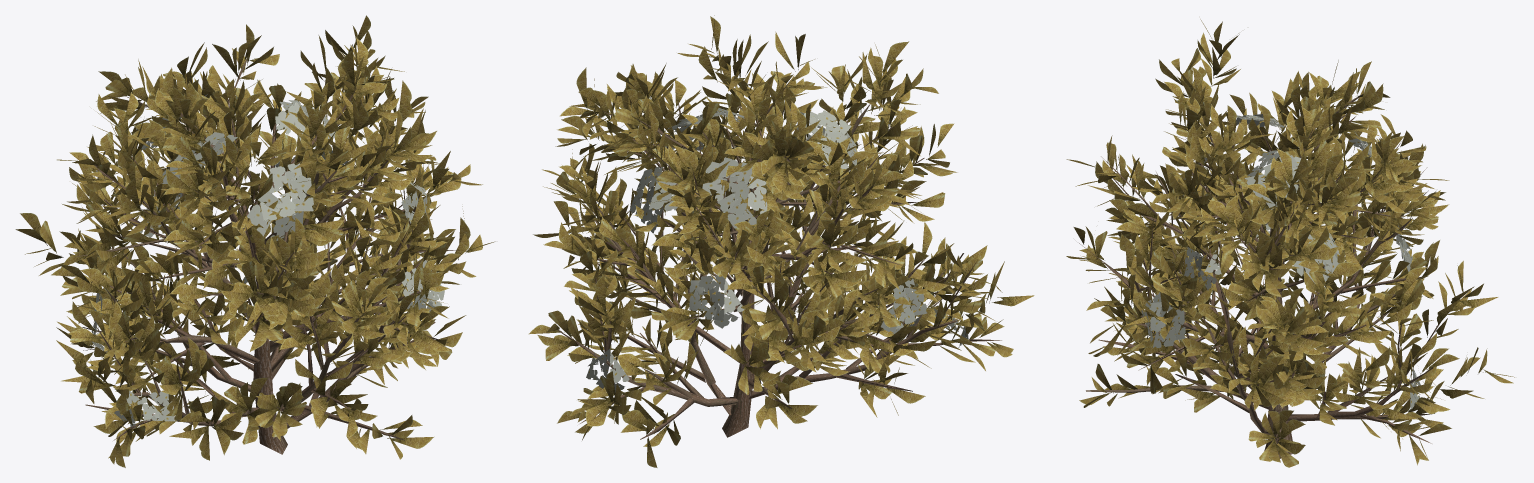
Rendered from small_Tree.fbx.
3 views of the same model, side by side, from view 1: azimuth 30°, elevation 25°; view 2: azimuth 150°, elevation 25°; view 3: azimuth 270°, elevation 25° (orthographic). The views are drawn at different scales.
Parts seen in each view (by area): view 1: SM_COM_Flower01.mo; view 2: SM_COM_Flower01.mo; view 3: SM_COM_Flower01.mo.
Part boxes in pixels (<box>): SM_COM_Flower01.mo: <box>15,15,495,467</box>; SM_COM_Flower01.mo: <box>528,15,1034,467</box>; SM_COM_Flower01.mo: <box>1066,19,1514,467</box>.
Bounding box in the file's own units: 136 × 118 × 128.
